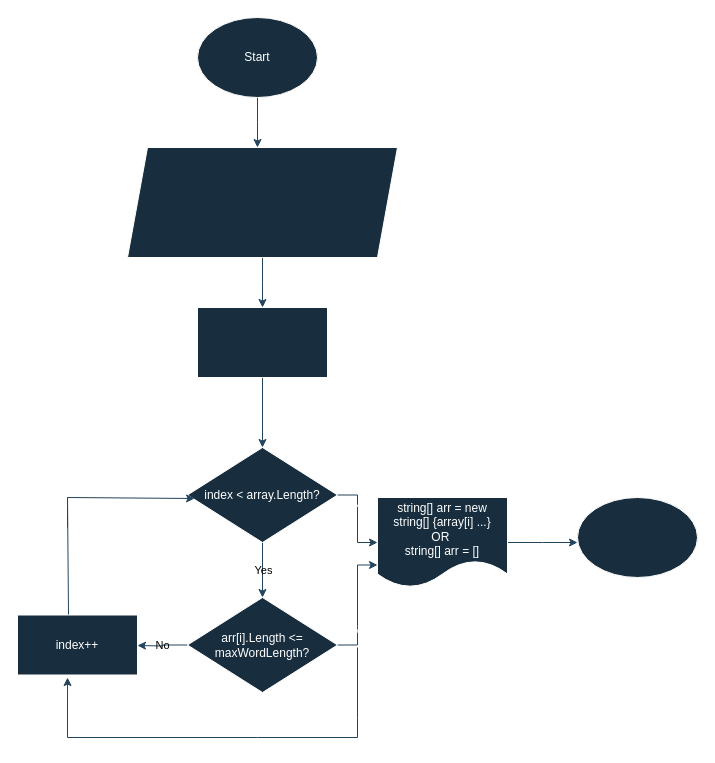
Some shapes in this 715 by 763 pixel diagram are drawn without their labels. Each missing label, with the box of its shape:
end: (576, 496, 698, 578)
index = 0 int maxWordLength = 3: (196, 306, 328, 378)
string[] arr = new string[] { "", "", "", ...}: (126, 146, 398, 258)
